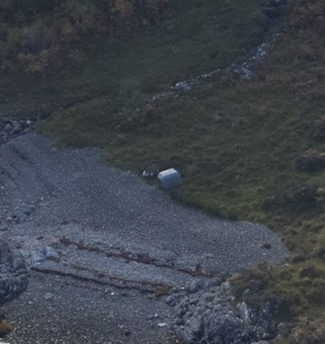white_in_green: (139, 155, 200, 203)
